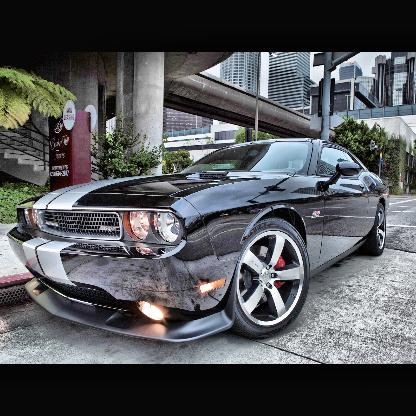Dodge Challenger SRT8 2011: (10, 140, 386, 344)
